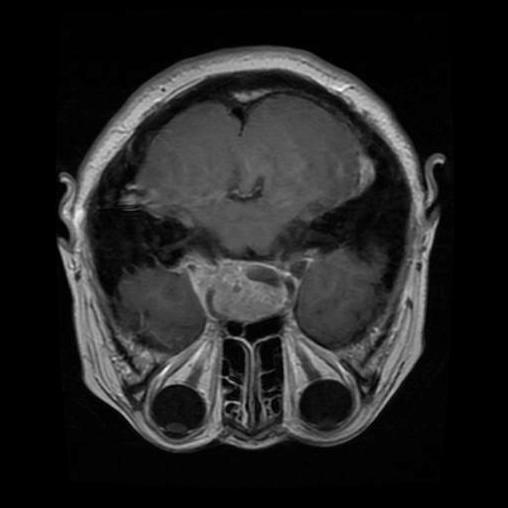Tumour-Pituitary: (179, 256, 296, 323)
